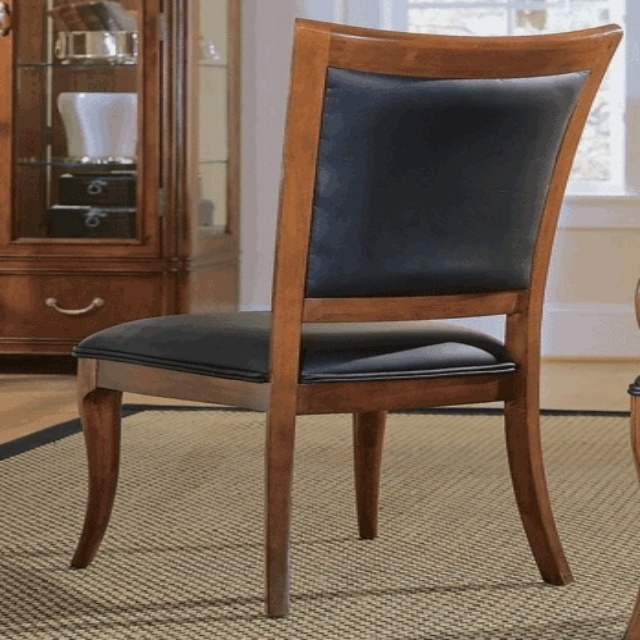obstacle: (72, 19, 620, 616)
